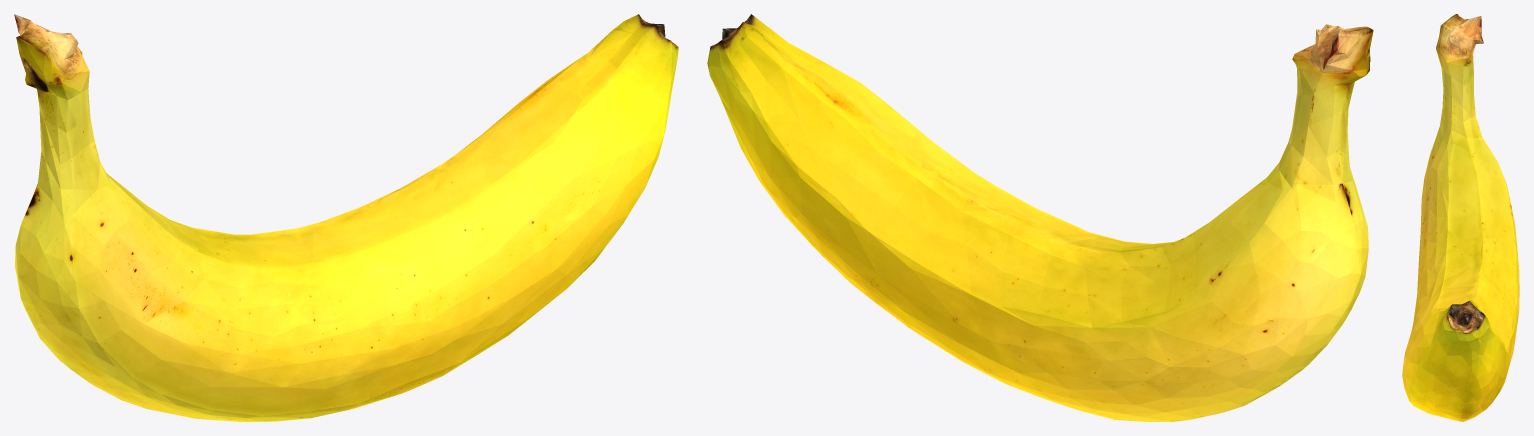
The model's file is banana-v1.glb.
3 views of the same model, side by side, from view 1: azimuth 30°, elevation 25°; view 2: azimuth 150°, elevation 25°; view 3: azimuth 270°, elevation 25° (orthographic). The views are drawn at different scales.
Visible parts, largest first — view 1: Object_2; view 2: Object_2; view 3: Object_2.
Boxes of the visible parts, box(x1,y1,x2,y2) form: Object_2: box(14, 14, 678, 421); Object_2: box(707, 14, 1373, 421); Object_2: box(1402, 14, 1519, 421).
Bounding box in the file's own units: 6.79 × 4.44 × 1.62.
Materials: 1 (1 with a texture image).
